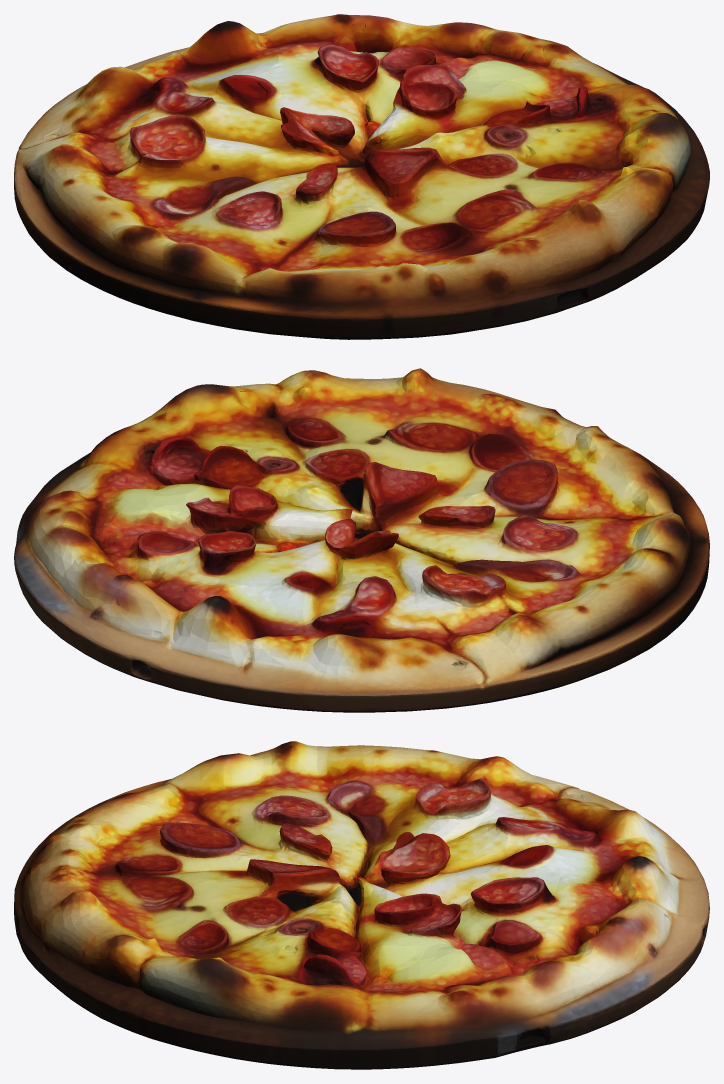
File: pizza.glb
The picture shows the model from 3 angles, top to bottom: view 1: azimuth 30°, elevation 25°; view 2: azimuth 150°, elevation 25°; view 3: azimuth 270°, elevation 25°; orthographic projection.
Parts seen in each view (by area): view 1: world; view 2: world; view 3: world.
Part boxes in pixels (bbox=[...]): world: bbox=[14, 14, 709, 339]; world: bbox=[14, 368, 709, 712]; world: bbox=[14, 741, 709, 1069].
Bounding box in the file's own units: 0.9995 × 0.1172 × 0.9964.
Materials: 1 (1 with a texture image).
